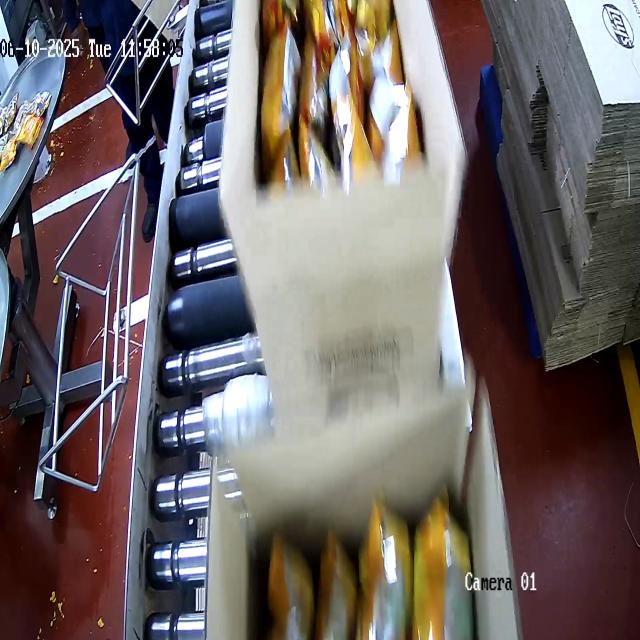FRENCH_CHEESE: (262, 505, 476, 640), (258, 0, 407, 191)
